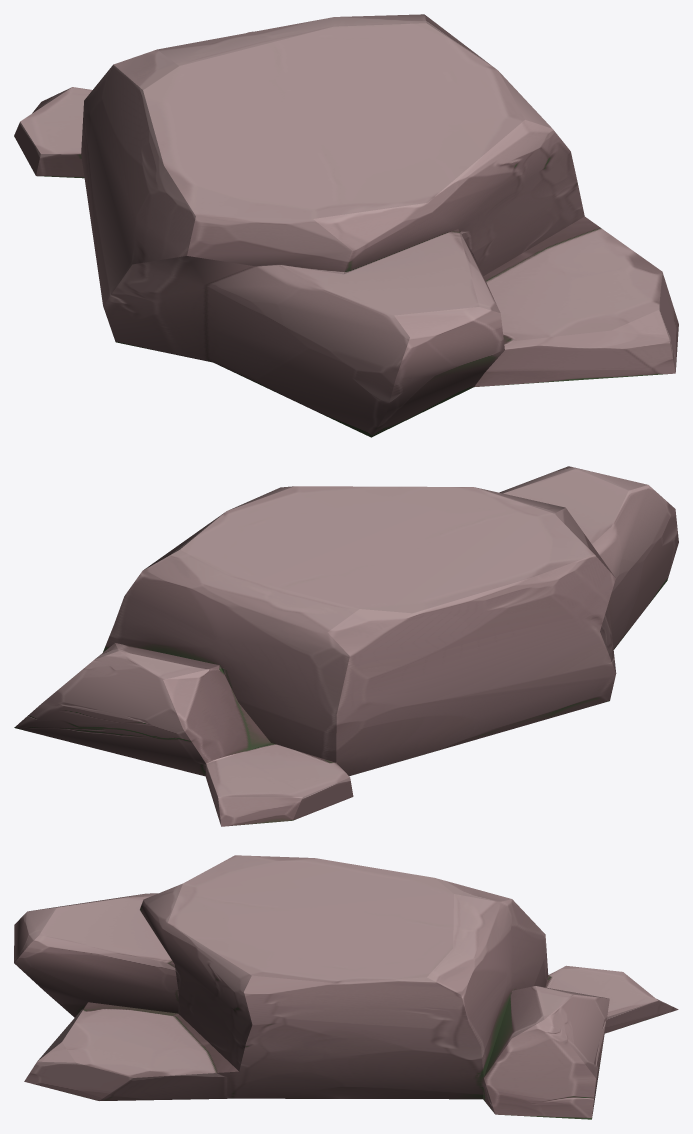
Rendered from rock-zone0-b.glb.
The picture shows the model from 3 angles, top to bottom: view 1: azimuth 30°, elevation 25°; view 2: azimuth 150°, elevation 25°; view 3: azimuth 270°, elevation 25°; orthographic projection. The views are drawn at different scales.
Parts seen in each view (by area): view 1: lp2_Material_0; view 2: lp2_Material_0; view 3: lp2_Material_0.
Part boxes in pixels (x1,y1,x2,y2): lp2_Material_0: (14, 14, 678, 437); lp2_Material_0: (14, 466, 678, 826); lp2_Material_0: (14, 855, 678, 1119).
Size of the model in its own units: 3.91 by 1.12 by 5.99.
Materials: 1 (1 with a texture image).
